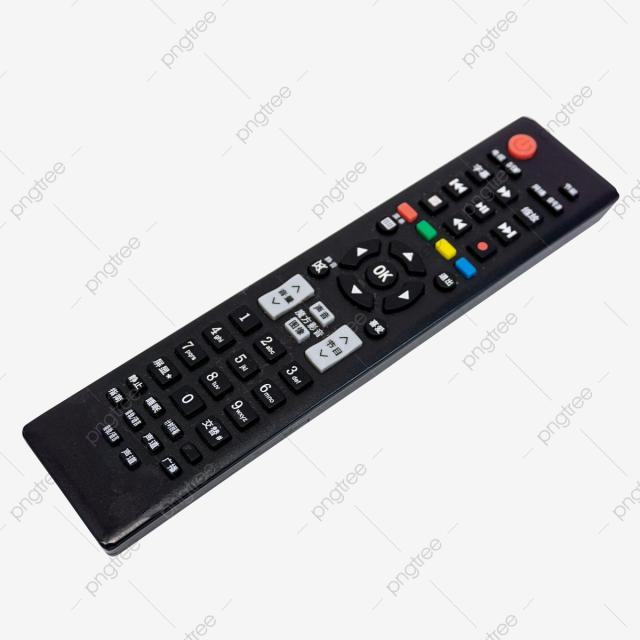remote: (20, 108, 631, 560)
